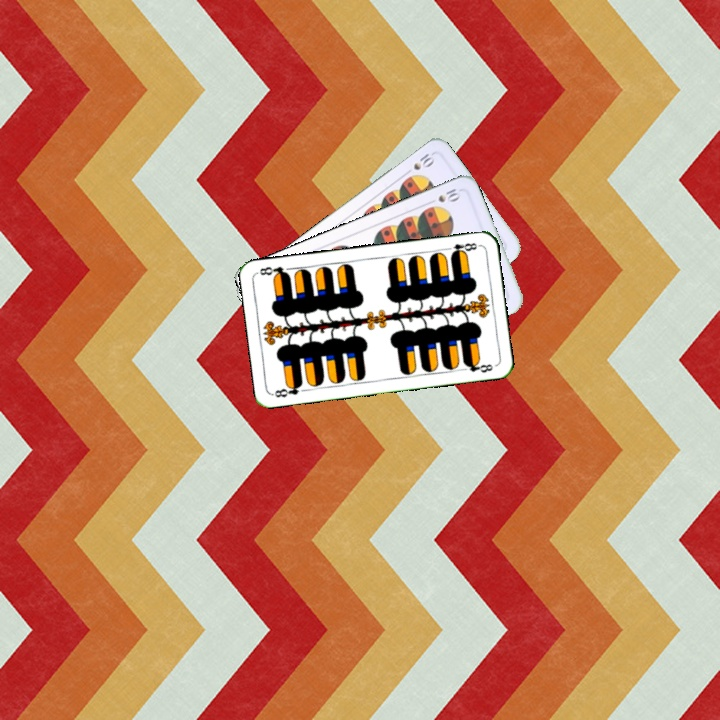E8: (441, 239, 482, 258), (270, 379, 305, 400)
S10: (400, 148, 438, 178), (424, 184, 464, 211)
